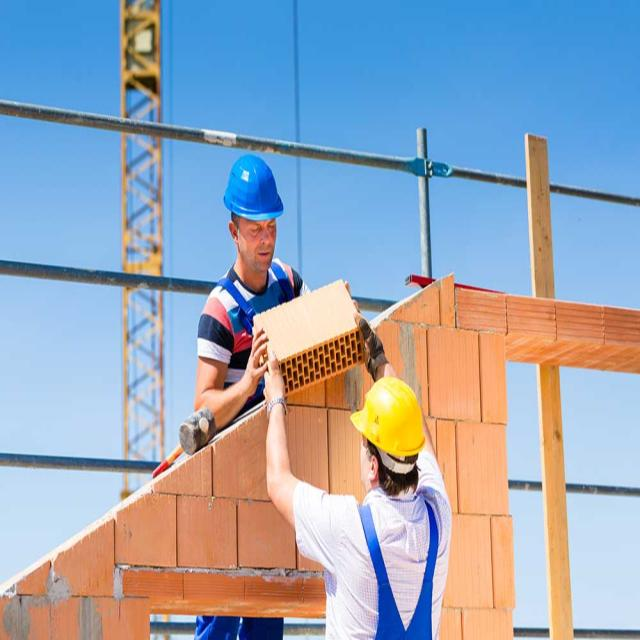gloves: (352, 307, 388, 381)
helmet: (350, 372, 427, 459), (222, 148, 286, 220)
